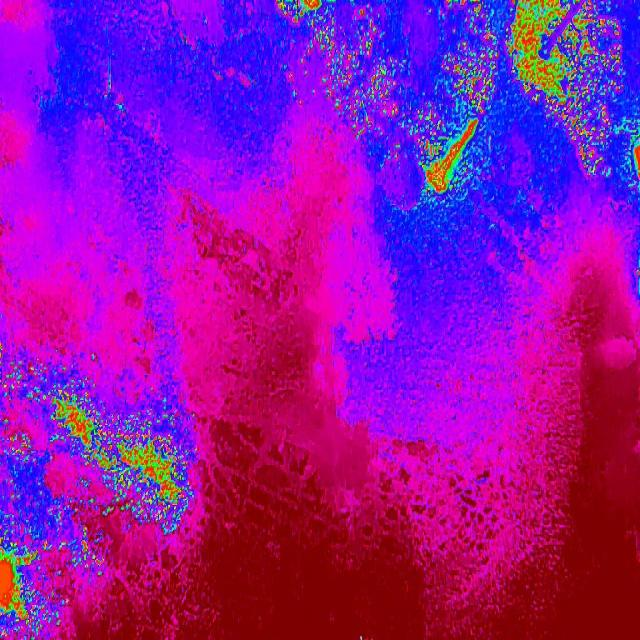fire: (0, 336, 106, 640), (409, 0, 505, 222), (273, 0, 409, 134), (505, 0, 640, 121), (106, 388, 197, 542), (561, 121, 640, 180)
